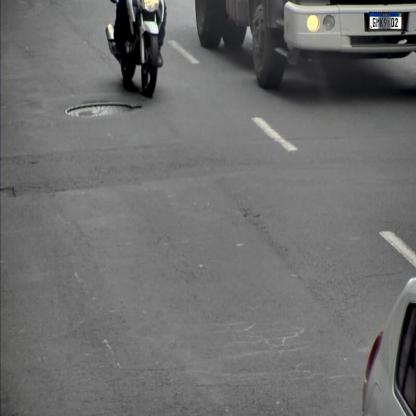PlacaM: (369, 12, 402, 30)
